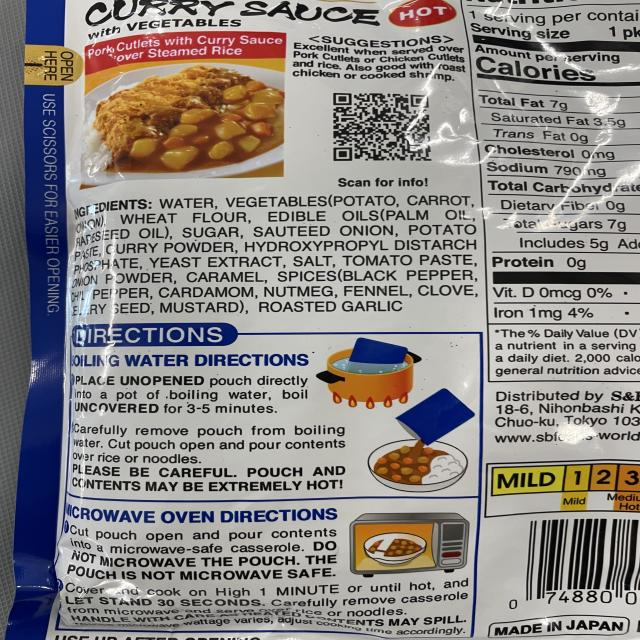object_name: (29, 1, 628, 640)
